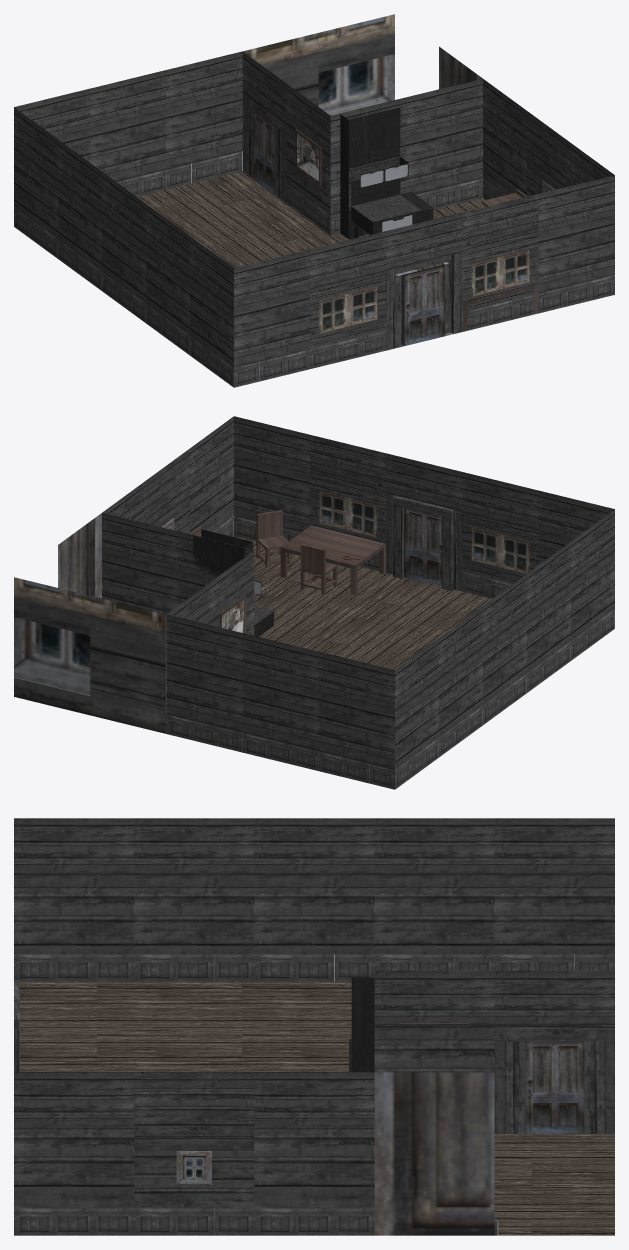
File: cabin.fbx
3 renders of one model, top to bottom at view 1: azimuth 30°, elevation 25°; view 2: azimuth 150°, elevation 25°; view 3: azimuth 270°, elevation 25°, orthographic. The views are drawn at different scales.
Visible parts, largest first — view 1: walls, floor, cook, painting, table; view 2: walls, floor, table, cook, chair2, chair1, painting; view 3: walls, floor, cook.
Part boxes in pixels (x1,y1,x2,y2): walls: [14, 14, 614, 387]; floor: [137, 171, 485, 368]; cook: [340, 106, 433, 239]; painting: [295, 129, 321, 185]; table: [463, 284, 537, 331]; walls: [14, 416, 614, 789]; floor: [217, 536, 491, 770]; table: [280, 525, 385, 594]; cook: [193, 529, 273, 636]; chair2: [256, 510, 291, 567]; chair1: [300, 543, 337, 594]; painting: [219, 595, 246, 633]; walls: [14, 818, 614, 1235]; floor: [20, 981, 614, 1235]; cook: [349, 977, 374, 1072].
Size of the model in its own units: 1000 by 305 by 1000.
Materials: 7 (7 with a texture image).
